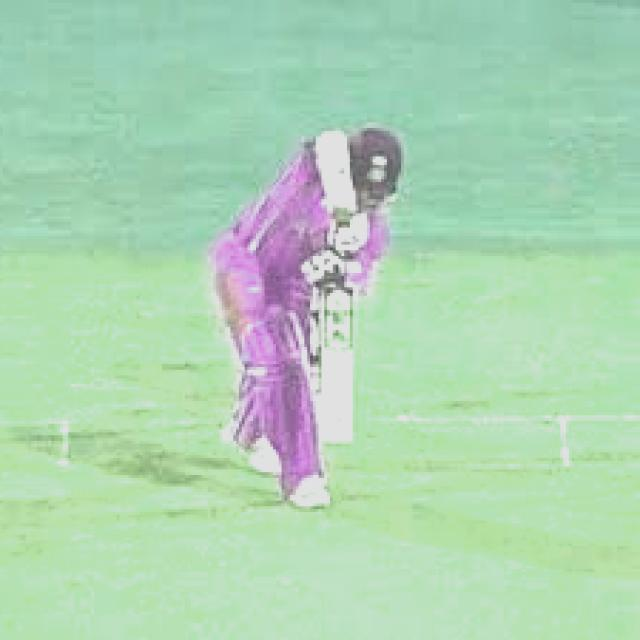toe: (314, 404, 357, 450)
